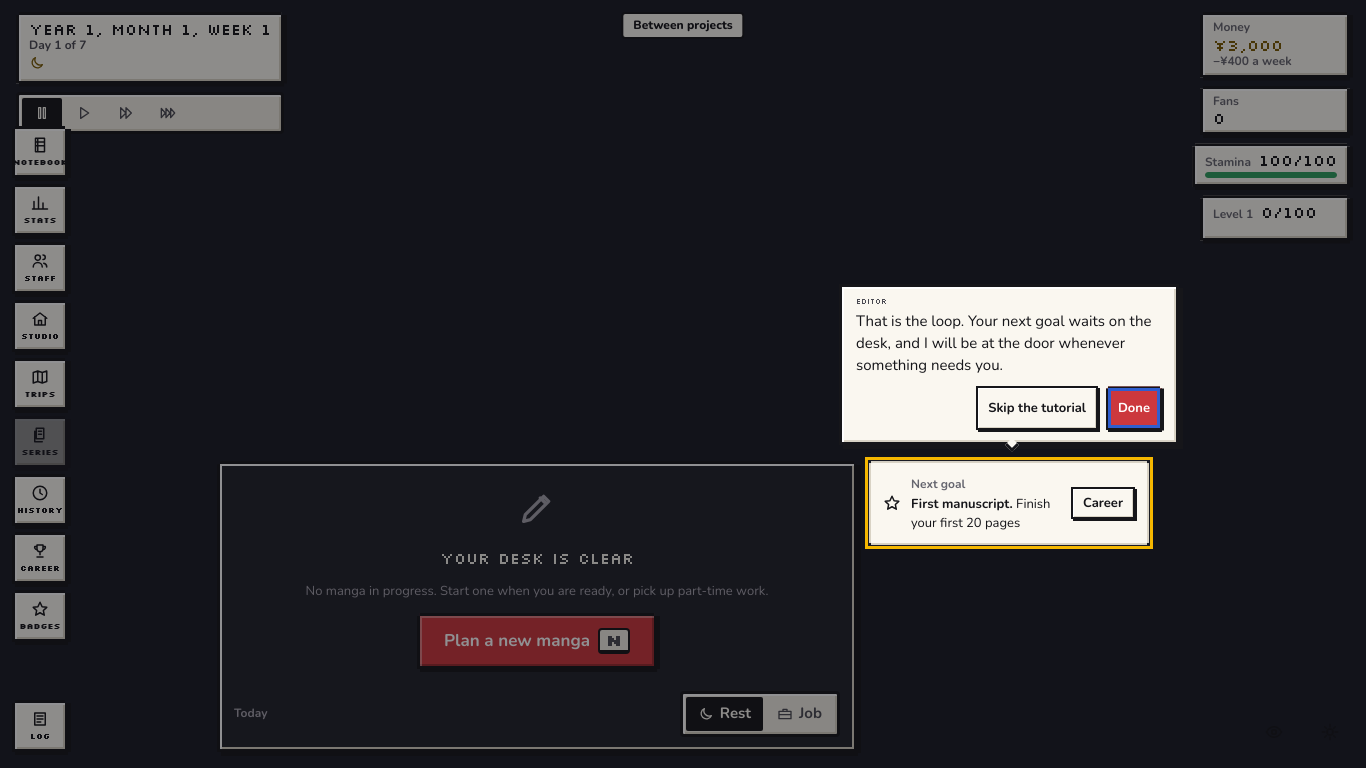
Test: TutorialGuide: buttons › the last step says Done and ends the tutorial
Click the button "Done": x=1134, y=408 [1106,386,1162,430]
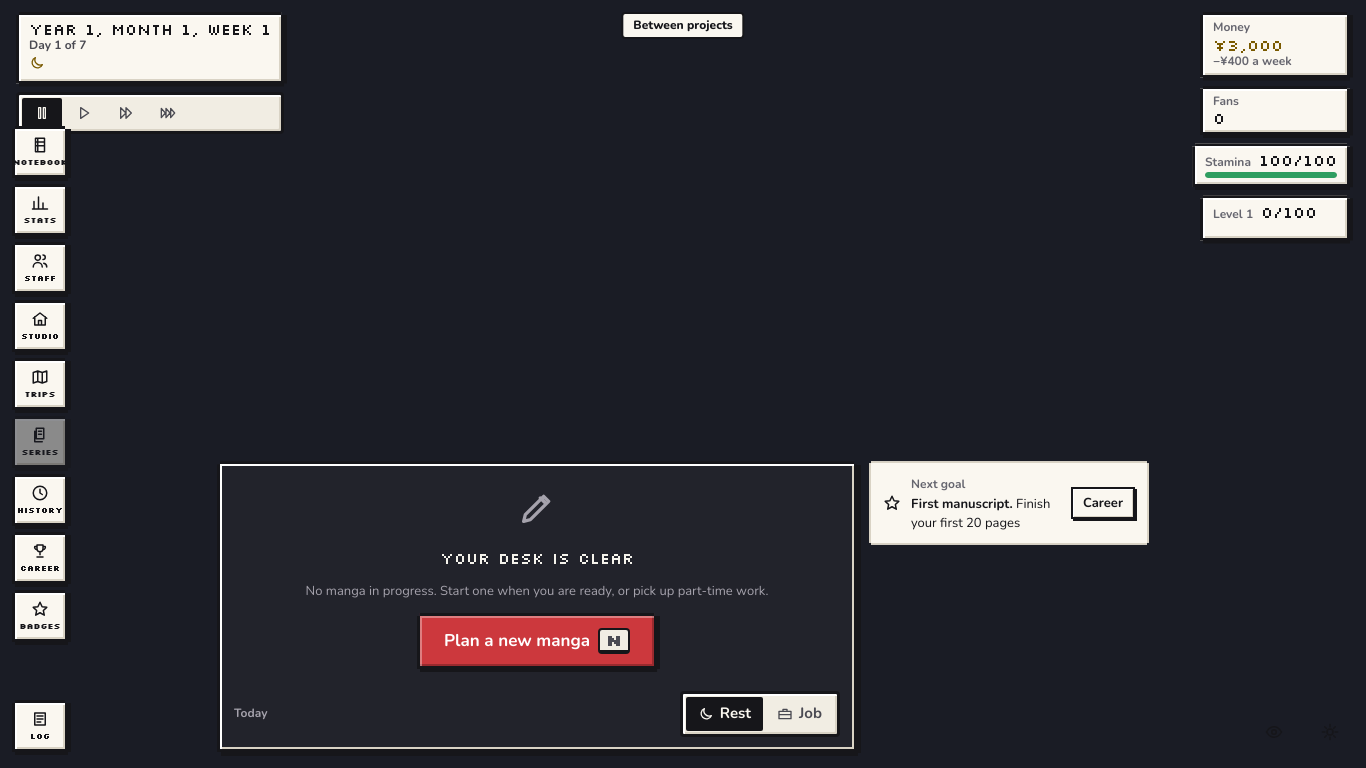
Result: the element with class "tutorial-bubble" is gone
